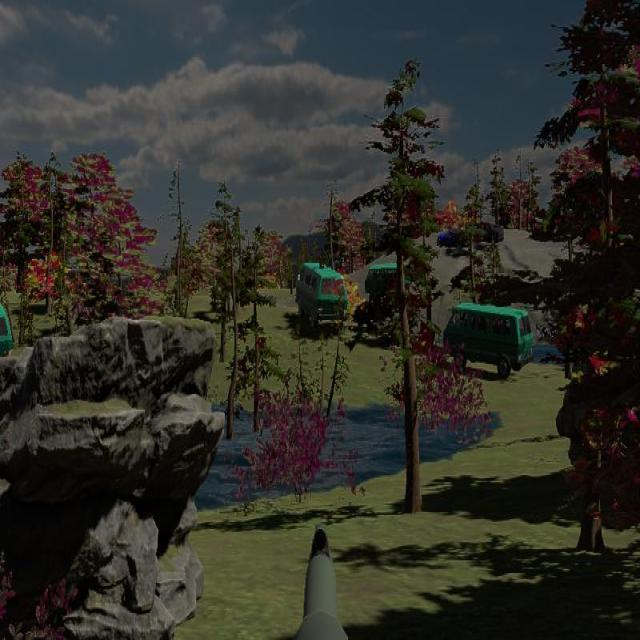car: (444, 302, 534, 379), (296, 262, 348, 331), (365, 261, 413, 311)
